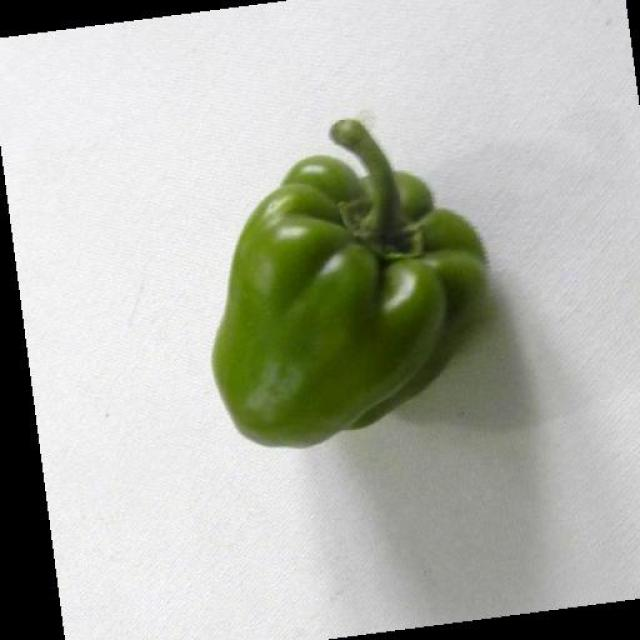Fresh_Capsicum: (231, 168, 492, 431)
